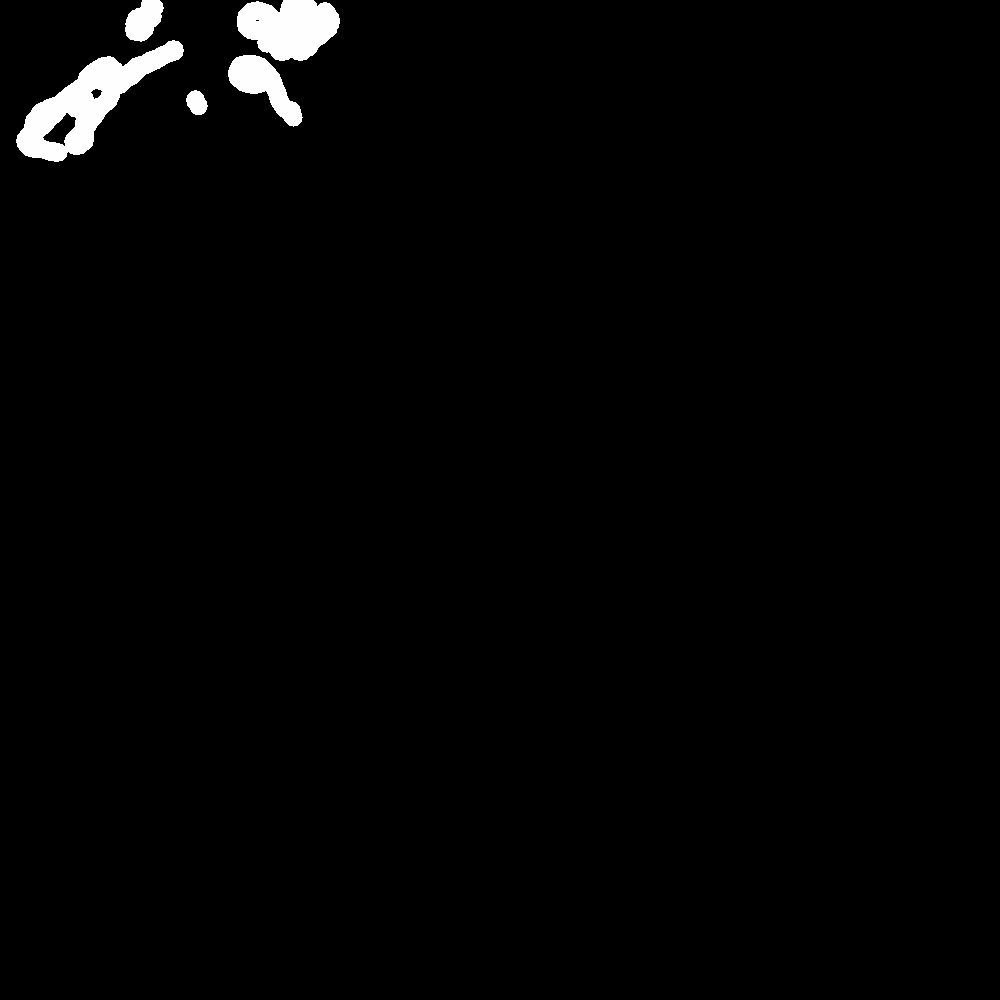illegal: (14, 15, 180, 168), (231, 1, 335, 115), (186, 93, 211, 115)
